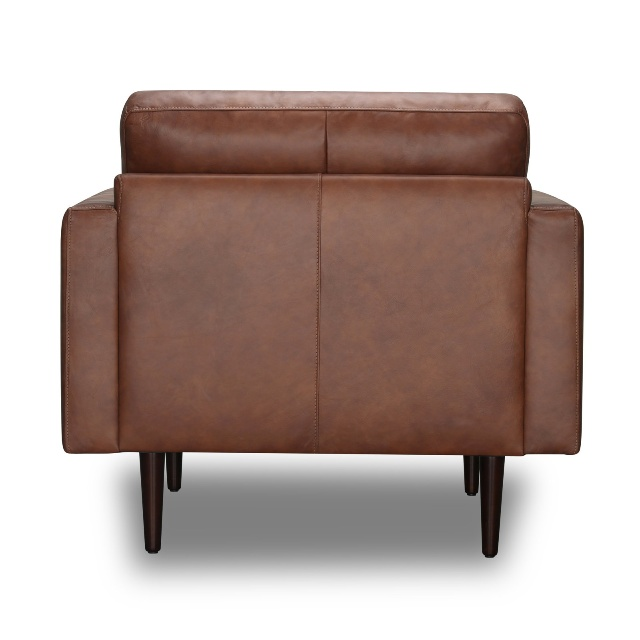obstacle: (62, 91, 582, 556)
